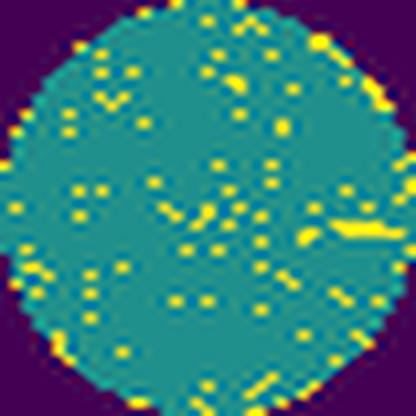Edge-Loc: (332, 215, 404, 239)
